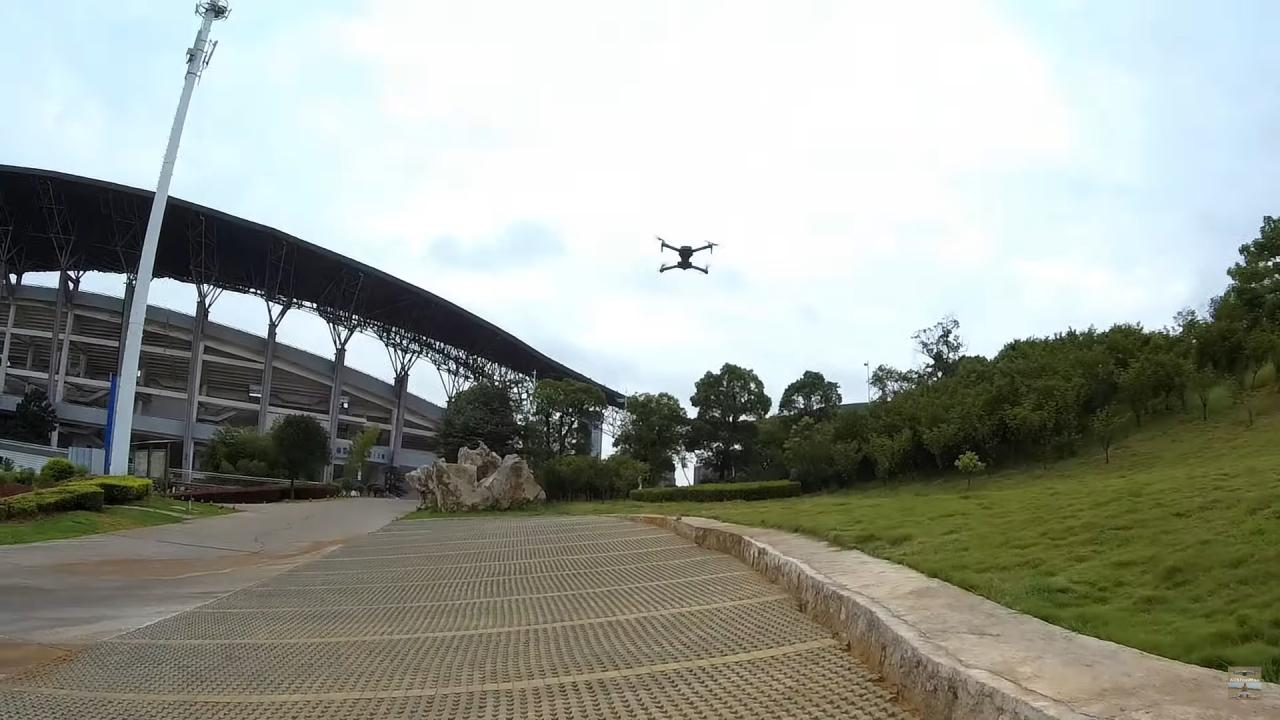Drone: (641, 228, 729, 287)
